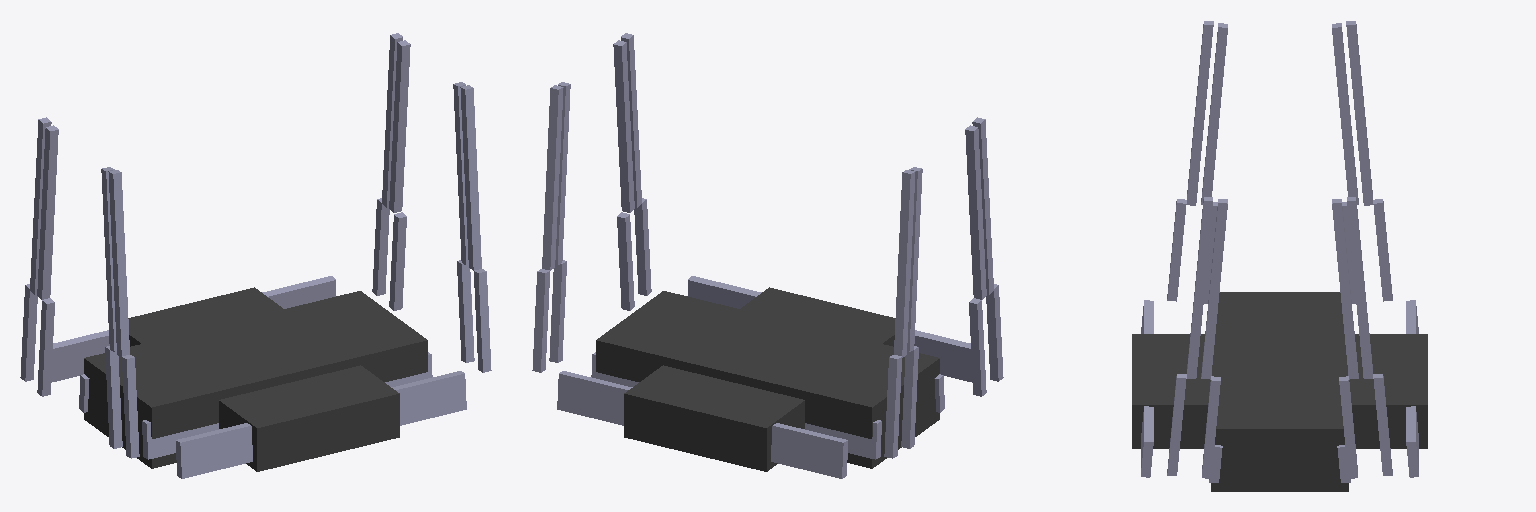
--- Facts derived from the render (not from the file) ---
The picture shows the robot from 3 angles, left to right: view 1: azimuth 30°, elevation 25°; view 2: azimuth 150°, elevation 25°; view 3: azimuth 270°, elevation 25°; orthographic projection.
Model quadruped with 27 links and 26 joints (8 revolute, 8 continuous, 10 fixed), rooted at base_chassis_link, posed every joint at zero.
Links seen in each view (by area): view 1: base_chassis_link, chassis_right, chassis_left, lower_leg_back_rightR_link, lower_leg_front_rightR_link, lower_leg_back_leftL_link, lower_leg_front_leftL_link, lower_leg_back_leftR_link, upper_leg_back_rightR_link, upper_leg_front_rightR_link, lower_leg_front_leftR_link, lower_leg_back_rightL_link (+7 smaller); view 2: base_chassis_link, chassis_left, chassis_right, lower_leg_back_leftR_link, lower_leg_front_leftR_link, lower_leg_back_rightL_link, lower_leg_front_rightL_link, lower_leg_back_rightR_link, upper_leg_back_leftR_link, upper_leg_front_leftR_link, lower_leg_front_rightR_link, lower_leg_back_leftL_link (+7 smaller); view 3: base_chassis_link, lower_leg_back_rightR_link, lower_leg_back_leftR_link, lower_leg_front_rightR_link, lower_leg_front_leftR_link, lower_leg_front_rightL_link, lower_leg_front_leftL_link, lower_leg_back_rightL_link, lower_leg_back_leftL_link, chassis_right, chassis_left, upper_leg_front_rightR_link (+5 smaller).
Boxes of the visible links, x1=… form: base_chassis_link: x1=84, y1=287, x2=427, y2=471; chassis_right: x1=142, y1=352, x2=466, y2=478; chassis_left: x1=51, y1=276, x2=335, y2=412; lower_leg_back_rightR_link: x1=108, y1=170, x2=129, y2=357; lower_leg_front_rightR_link: x1=460, y1=85, x2=481, y2=270; lower_leg_back_leftL_link: x1=37, y1=125, x2=58, y2=299; lower_leg_front_leftL_link: x1=389, y1=40, x2=410, y2=212; lower_leg_back_leftR_link: x1=30, y1=117, x2=51, y2=294; upper_leg_back_rightR_link: x1=122, y1=355, x2=139, y2=458; upper_leg_front_rightR_link: x1=474, y1=269, x2=491, y2=372; lower_leg_front_leftR_link: x1=382, y1=33, x2=402, y2=207; lower_leg_back_rightL_link: x1=101, y1=167, x2=116, y2=351; base_chassis_link: x1=596, y1=287, x2=939, y2=471; chassis_left: x1=557, y1=352, x2=881, y2=478; chassis_right: x1=688, y1=276, x2=972, y2=412; lower_leg_back_leftR_link: x1=894, y1=170, x2=915, y2=357; lower_leg_front_leftR_link: x1=542, y1=85, x2=563, y2=270; lower_leg_back_rightL_link: x1=965, y1=125, x2=986, y2=299; lower_leg_front_rightL_link: x1=613, y1=40, x2=634, y2=212; lower_leg_back_rightR_link: x1=972, y1=117, x2=993, y2=294; upper_leg_back_leftR_link: x1=884, y1=355, x2=901, y2=458; upper_leg_front_leftR_link: x1=532, y1=269, x2=549, y2=372; lower_leg_front_rightR_link: x1=621, y1=33, x2=641, y2=207; lower_leg_back_leftL_link: x1=907, y1=167, x2=922, y2=351; base_chassis_link: x1=1132, y1=292, x2=1427, y2=491; lower_leg_back_rightR_link: x1=1186, y1=21, x2=1213, y2=205; lower_leg_back_leftR_link: x1=1346, y1=21, x2=1373, y2=205; lower_leg_front_rightR_link: x1=1187, y1=197, x2=1212, y2=378; lower_leg_front_leftR_link: x1=1347, y1=197, x2=1372, y2=378; lower_leg_front_rightL_link: x1=1201, y1=199, x2=1227, y2=379; lower_leg_front_leftL_link: x1=1332, y1=199, x2=1358, y2=379; lower_leg_back_rightL_link: x1=1201, y1=23, x2=1227, y2=204; lower_leg_back_leftL_link: x1=1332, y1=23, x2=1358, y2=204; chassis_right: x1=1141, y1=300, x2=1222, y2=482; chassis_left: x1=1337, y1=300, x2=1418, y2=482; upper_leg_front_rightR_link: x1=1167, y1=374, x2=1186, y2=475.
Bounding box of the posed robot: 0.43 × 0.3 × 0.3508 m (x, y, z).
Meshes: 1 distinct files referenced, 0 mesh visuals loaded (none loaded); not drawn: 8 (reference not matched to a file when rendering).

URDF robot description (quadruped):
<?xml version="0.0" ?>
<!-- ======================================================================= -->
<!--LICENSE:                                                                 -->
<!--Copyright (c) 2017, Erwin Coumans                                        -->
<!--Google Inc.                                                              -->
<!--All rights reserved.                                                     -->
<!--                                                                         -->
<!--Redistribution and use in source and binary forms, with or without       -->
<!--modification, are permitted provided that the following conditions are   -->
<!--met:                                                                     -->
<!--                                                                         -->
<!--1. Redistributions or derived work must retain this copyright notice,    -->
<!--   this list of conditions and the following disclaimer.                 -->
<!--                                                                         -->
<!--2. Redistributions in binary form must reproduce the above copyright     -->
<!--   notice, this list of conditions and the following disclaimer in the   -->
<!--   documentation and/or other materials provided with the distribution.  -->
<!--                                                                         -->
<!--THIS SOFTWARE IS PROVIDED BY THE COPYRIGHT HOLDERS AND CONTRIBUTORS "AS  -->
<!--IS" AND ANY EXPRESS OR IMPLIED WARRANTIES, INCLUDING, BUT NOT LIMITED TO,-->
<!--THE IMPLIED WARRANTIES OF MERCHANTABILITY AND FITNESS FOR A PARTICULAR   -->
<!--PURPOSE ARE DISCLAIMED. IN NO EVENT SHALL THE COPYRIGHT HOLDER OR        -->
<!--CONTRIBUTORS BE LIABLE FOR ANY DIRECT, INDIRECT, INCIDENTAL, SPECIAL,    -->
<!--EXEMPLARY, OR CONSEQUENTIAL DAMAGES (INCLUDING, BUT NOT LIMITED TO,      -->
<!--PROCUREMENT OF SUBSTITUTE GOODS OR SERVICES; LOSS OF USE, DATA, OR       -->
<!--PROFITS; OR BUSINESS INTERRUPTION) HOWEVER CAUSED AND ON ANY THEORY OF   -->
<!--LIABILITY, WHETHER IN CONTRACT, STRICT LIABILITY, OR TORT (INCLUDING     -->
<!--NEGLIGENCE OR OTHERWISE) ARISING IN ANY WAY OUT OF THE USE OF THIS       -->
<!--SOFTWARE, EVEN IF ADVISED OF THE POSSIBILITY OF SUCH DAMAGE.             -->

<robot name="quadruped">
  <link name="base_chassis_link">
    <visual>
      <geometry>
        <box size=".33 0.14 .07"/>
      </geometry>
      <material name="black">
        <color rgba="0.3 0.3 0.3 1"/>
      </material>
    </visual>
    <visual>
      <origin rpy="0 0 0" xyz="0 0.10 0"/>
      <geometry>
        <box size=".17 0.10 .05"/>
      </geometry>
      <material name="black">
        <color rgba="0.3 0.3 0.3 1"/>
      </material>
    </visual>
    <visual>
      <origin rpy="0 0 0" xyz="0 -0.10 0"/>
      <geometry>
        <box size=".17 0.10 .05"/>
      </geometry>
      <material name="black">
        <color rgba="0.3 0.3 0.3 1"/>
      </material>
    </visual>
    <collision>
      <geometry>
       <box size=".34 0.14 .07"/>
      </geometry>
    </collision>
    <collision>
      <origin rpy="0 0 0" xyz="0 0.10 0"/>
      <geometry>
       <box size=".17 0.10 .05"/>
      </geometry>
    </collision>
    <collision>
      <origin rpy="0 0 0" xyz="0 -0.10 0"/>
      <geometry>
       <box size=".17 0.10 .05"/>
      </geometry>
    </collision>
    <inertial>
      <mass value="3"/>
      <inertia ixx="1.0" ixy="0.0" ixz="0.0" iyy="1.0" iyz="0.0" izz="1.0"/>
    </inertial>
  </link>

  <link name="chassis_right">
    <visual>
      <origin rpy="0 0 0" xyz="0 0.035 0"/>
      <geometry>
       <box size=".34 0.01 .04"/>
      </geometry>
      <material name="grey">
        <color rgba="0.65 0.65 0.75 1"/>
      </material>    </visual>
    <visual>
      <origin rpy="0 0 0" xyz="0 -0.035 0"/>
      <geometry>
       <box size=".34 0.01 .04"/>
      </geometry>
      <material name="grey">
        <color rgba="0.65 0.65 0.75 1"/>
      </material>    </visual>
    <collision>
      <origin rpy="0 0 0" xyz="0 0.035 0"/>
      <geometry>
       <box size=".34 0.01 .04"/>
      </geometry>
    </collision>
    <collision>
      <origin rpy="0 0 0" xyz="0 -0.035 0"/>
      <geometry>
       <box size=".34 0.01 .04"/>
      </geometry>
    </collision>
    <inertial>
      <mass value=".1"/>
      <inertia ixx="1.0" ixy="0.0" ixz="0.0" iyy="1.0" iyz="0.0" izz="1.0"/>
    </inertial>
  </link>
  <joint name="chassis_right_center" type="fixed">
    <axis xyz="0 0 1"/>
    <parent link="base_chassis_link"/>
    <child link="chassis_right"/>
    <origin rpy="-0.0872665 0 0" xyz="0.0 -0.10 0.0"/>
    <limit effort="100" velocity="100"/>
    <joint_properties damping="0.0" friction="0.0"/>
  </joint>

  <link name="chassis_left">
    <visual>
      <origin rpy="0 0 0" xyz="0 0.035 0"/>
      <geometry>
       <box size=".34 0.01 .04"/>
      </geometry>
      <material name="grey">
        <color rgba="0.65 0.65 0.75 1"/>
      </material>    </visual>
    <visual>
      <origin rpy="0 0 0" xyz="0 -0.035 0"/>
      <geometry>
       <box size=".34 0.01 .04"/>
      </geometry>
      <material name="grey">
        <color rgba="0.65 0.65 0.75 1"/>
      </material>    </visual>
    <collision>
      <origin rpy="0 0 0" xyz="0 0.035 0"/>
      <geometry>
       <box size=".34 0.01 .04"/>
      </geometry>
    </collision>
    <collision>
      <origin rpy="0 0 0" xyz="0 -0.035 0"/>
      <geometry>
       <box size=".34 0.01 .04"/>
      </geometry>
    </collision>
    <inertial>
      <mass value=".1"/>
      <inertia ixx="1.0" ixy="0.0" ixz="0.0" iyy="1.0" iyz="0.0" izz="1.0"/>
    </inertial>
  </link>
  <joint name="chassis_left_center" type="fixed">
    <axis xyz="0 0 1"/>
    <parent link="base_chassis_link"/>
    <child link="chassis_left"/>
    <origin rpy="0.0872665 0 0" xyz="0.0 0.10 0.0"/>
    <limit effort="100" velocity="100"/>
    <joint_properties damping="0.0" friction="0.0"/>
  </joint>
  
  <link name="motor_front_rightR_link">
    <visual>
      <geometry>
        <mesh filename="tmotor3.obj" scale="1 1 1"/>
      </geometry>
      <material name="white">
        <color rgba="1 1 1 1"/>
      </material>
    </visual>
    <collision>
      <geometry>
        <cylinder length="0.026" radius="0.0434"/>
      </geometry>
    </collision>
    <inertial>
      <mass value="0.25"/>
      <inertia ixx="1.0" ixy="0.0" ixz="0.0" iyy="1.0" iyz="0.0" izz="1.0"/>
    </inertial>
  </link>
  <joint name="motor_front_rightR_joint" type="continuous">
    <axis xyz="0 0 1"/>
    <parent link="chassis_right"/>
    <child link="motor_front_rightR_link"/>
    <origin rpy="1.57075 0 0" xyz="0.21 -0.025 0"/>
    <limit effort="100" velocity="100"/>
    <joint_properties damping="0.0" friction="0.0"/>
  </joint>

  <link name="motor_front_rightL_link">
    <visual>
      <geometry>
        <mesh filename="tmotor3.obj" scale="1 1 1"/>
      </geometry>
      <material name="white">
        <color rgba="1 1 1 1"/>
      </material>
    </visual>
    <collision>
      <geometry>
        <cylinder length="0.026" radius="0.0434"/>
      </geometry>
    </collision>
    <inertial>
      <mass value="0.25"/>
      <inertia ixx="1.0" ixy="0.0" ixz="0.0" iyy="1.0" iyz="0.0" izz="1.0"/>
    </inertial>
  </link>
  <joint name="motor_front_rightL_joint" type="continuous">
    <axis xyz="0 0 1"/>
    <parent link="chassis_right"/>
    <child link="motor_front_rightL_link"/>
    <origin rpy="1.57075 0 3.141592" xyz="0.21 0.04 0"/>
    <limit effort="100" velocity="100"/>
    <joint_properties damping="0.0" friction="0.0"/>
  </joint>

  <link name="motor_front_leftR_link">
    <visual>
      <geometry>
        <mesh filename="tmotor3.obj" scale="1 1 1"/>
      </geometry>
      <material name="white">
        <color rgba="1 1 1 1"/>
      </material>
    </visual>
    <collision>
      <geometry>
        <cylinder length="0.026" radius="0.0434"/>
      </geometry>
    </collision>
    <inertial>
      <mass value="0.25"/>
      <inertia ixx="1.0" ixy="0.0" ixz="0.0" iyy="1.0" iyz="0.0" izz="1.0"/>
    </inertial>
  </link>
  <joint name="motor_front_leftR_joint" type="continuous">
    <axis xyz="0 0 1"/>
    <parent link="chassis_left"/>
    <child link="motor_front_leftR_link"/>
    <origin rpy="1.57075 0 3.141592" xyz="0.21 0.025 0"/>
    <limit effort="100" velocity="100"/>
    <joint_properties damping="0.0" friction="0.0"/>
  </joint>

  <link name="motor_front_leftL_link">
    <visual>
      <geometry>
        <mesh filename="tmotor3.obj" scale="1 1 1"/>
      </geometry>
      <material name="white">
        <color rgba="1 1 1 1"/>
      </material>
    </visual>
    <inertial>
      <mass value="0.25"/>
      <inertia ixx="1.0" ixy="0.0" ixz="0.0" iyy="1.0" iyz="0.0" izz="1.0"/>
    </inertial>
  </link>
  <joint name="motor_front_leftL_joint" type="continuous">
    <axis xyz="0 0 1"/>
    <parent link="chassis_left"/>
    <child link="motor_front_leftL_link"/>
    <origin rpy="1.57075 0 0" xyz="0.21 -0.04 0"/>
    <limit effort="100" velocity="100"/>
    <joint_properties damping="0.0" friction="0.0"/>
  </joint>

  <link name="motor_back_rightR_link">
    <visual>
      <geometry>
        <mesh filename="tmotor3.obj" scale="1 1 1"/>
      </geometry>
      <material name="white">
        <color rgba="1 1 1 1"/>
      </material>
    </visual>
    <collision>
      <geometry>
        <cylinder length="0.026" radius="0.0434"/>
      </geometry>
    </collision>
    <inertial>
      <mass value="0.25"/>
      <inertia ixx="1.0" ixy="0.0" ixz="0.0" iyy="1.0" iyz="0.0" izz="1.0"/>
    </inertial>
  </link>
  <joint name="motor_back_rightR_joint" type="continuous">
    <axis xyz="0 0 1"/>
    <parent link="chassis_right"/>
    <child link="motor_back_rightR_link"/>
    <origin rpy="1.57075 0 0" xyz="-0.21 -0.025 0"/>
    <limit effort="100" velocity="100"/>
    <joint_properties damping="0.0" friction="0.0"/>
  </joint>

  <link name="motor_back_rightL_link">
    <visual>
      <geometry>
        <mesh filename="tmotor3.obj" scale="1 1 1"/>
      </geometry>
      <material name="white">
        <color rgba="1 1 1 1"/>
      </material>
    </visual>
    <collision>
      <geometry>
        <cylinder length="0.026" radius="0.0434"/>
      </geometry>
    </collision>
    <inertial>
      <mass value="0.25"/>
      <inertia ixx="1.0" ixy="0.0" ixz="0.0" iyy="1.0" iyz="0.0" izz="1.0"/>
    </inertial>
  </link>
  <joint name="motor_back_rightL_joint" type="continuous">
    <axis xyz="0 0 1"/>
    <parent link="chassis_right"/>
    <child link="motor_back_rightL_link"/>
    <origin rpy="1.57075 0 3.141592" xyz="-0.21 0.04 0"/>
    <limit effort="100" velocity="100"/>
    <joint_properties damping="0.0" friction="0.0"/>
  </joint>

  <link name="motor_back_leftR_link">
    <visual>
      <geometry>
        <mesh filename="tmotor3.obj" scale="1 1 1"/>
      </geometry>
      <material name="white">
        <color rgba="1 1 1 1"/>
      </material>
    </visual>
    <collision>
      <geometry>
        <cylinder length="0.026" radius="0.0434"/>
      </geometry>
    </collision>
    <inertial>
      <mass value="0.25"/>
      <inertia ixx="1.0" ixy="0.0" ixz="0.0" iyy="1.0" iyz="0.0" izz="1.0"/>
    </inertial>
  </link>
  <joint name="motor_back_leftR_joint" type="continuous">
    <axis xyz="0 0 1"/>
    <parent link="chassis_left"/>
    <child link="motor_back_leftR_link"/>
    <origin rpy="1.57075 0 3.141592" xyz="-0.21 0.025 0"/>
    <limit effort="100" velocity="100"/>
    <joint_properties damping="0.0" friction="0.0"/>
  </joint>

  <link name="motor_back_leftL_link">
    <visual>
      <geometry>
        <mesh filename="tmotor3.obj" scale="1 1 1"/>
      </geometry>
      <material name="white">
        <color rgba="1 1 1 1"/>
      </material>
    </visual>
    <collision>
      <geometry>
        <cylinder length="0.026" radius="0.0434"/>
      </geometry>
    </collision>
    <inertial>
      <mass value="0.25"/>
      <inertia ixx="1.0" ixy="0.0" ixz="0.0" iyy="1.0" iyz="0.0" izz="1.0"/>
    </inertial>
  </link>
  <joint name="motor_back_leftL_joint" type="continuous">
    <axis xyz="0 0 1"/>
    <parent link="chassis_left"/>
    <child link="motor_back_leftL_link"/>
    <origin rpy="1.57075 0 0" xyz="-0.21 -0.04 0"/>
    <limit effort="100" velocity="100"/>
    <joint_properties damping="0.0" friction="0.0"/>
  </joint>

  <link name="upper_leg_front_rightR_link">
    <visual>
      <geometry>
        <box size=".01 0.01 .11"/>
      </geometry>
      <material name="grey">
        <color rgba="0.65 0.65 0.75 1"/>
      </material>
    </visual>
    <collision>
      <geometry>
        <box size=".01 0.01 .11"/>
      </geometry>
    </collision>
    <inertial>
      <mass value="0.05"/>
      <inertia ixx="1.0" ixy="0.0" ixz="0.0" iyy="1.0" iyz="0.0" izz="1.0"/>
    </inertial>
  </link>
  <joint name="hip_front_rightR_link" type="fixed">
    <axis xyz="0 0 1"/>
    <parent link="motor_front_rightR_link"/>
    <child link="upper_leg_front_rightR_link"/>
    <origin rpy="-1.57075 0 0" xyz="0.0 0.06 -0.015"/>
    <limit effort="100" velocity="100"/>
    <joint_properties damping="0.0" friction="0.0"/>
  </joint>

  <link name="lower_leg_front_rightR_link">
    <contact>
      <stiffness value="10000"/>
      <damping value="10"/>
      <lateral_friction value="1"/>
    </contact>
    <visual>
      <origin rpy="0.0 0 0" xyz="0 0 .1"/>
      <geometry>
        <box size=".01 0.01 .2"/>
      </geometry>
      <material name="grey">
        <color rgba="0.65 0.65 0.75 1"/>
      </material>
    </visual>
    <collision>
      <origin rpy="0.0 0 0" xyz="0 0 .1"/>
      <geometry>
        <box size=".01 0.01 .2"/>
      </geometry>
    </collision>
    <inertial>
      <mass value="0.05"/>
      <inertia ixx="1.0" ixy="0.0" ixz="0.0" iyy="1.0" iyz="0.0" izz="1.0"/>
    </inertial>
  </link>
  <joint name="knee_front_rightR_link" type="revolute">
    <axis xyz="0 1 0"/>
    <parent link="upper_leg_front_rightR_link"/>
    <child link="lower_leg_front_rightR_link"/>
    <origin rpy="0 0 0" xyz="0.0 0.01 .055"/>
    <limit effort="100" velocity="100"/>
    <joint_properties damping="0.0" friction="0.0"/>
  </joint>

  <link name="upper_leg_front_rightL_link">
    <visual>
      <geometry>
        <box size=".01 0.01 .11"/>
      </geometry>
      <material name="grey">
        <color rgba="0.65 0.65 0.75 1"/>
      </material>
    </visual>
    <collision>
      <geometry>
        <box size=".01 0.01 .11"/>
      </geometry>
    </collision>
    <inertial>
      <mass value="0.05"/>
      <inertia ixx="1.0" ixy="0.0" ixz="0.0" iyy="1.0" iyz="0.0" izz="1.0"/>
    </inertial>
  </link>
  <joint name="motor_front_rightL_link" type="fixed">
    <axis xyz="0 0 1"/>
    <parent link="motor_front_rightL_link"/>
    <child link="upper_leg_front_rightL_link"/>
    <origin rpy="-1.57075 0 0" xyz="0.0 0.06 -0.015"/>
    <limit effort="100" velocity="100"/>
    <joint_properties damping="0.0" friction="0.0"/>
  </joint>

  <link name="lower_leg_front_rightL_link">
    <contact>
      <stiffness value="10000"/>
      <damping value="10"/>
      <lateral_friction value="1"/>
    </contact>
    <visual>
      <origin rpy="0.0 0 0" xyz="0 0 .1"/>
      <geometry>
        <box size=".01 0.01 .198"/>
      </geometry>
      <material name="grey">
        <color rgba="0.65 0.65 0.75 1"/>
      </material>
    </visual>
    <collision>
      <origin rpy="0.0 0 0" xyz="0 0 .1"/>
      <geometry>
        <box size=".01 0.01 .198"/>
      </geometry>
    </collision>
    <inertial>
      <mass value="0.05"/>
      <inertia ixx="1.0" ixy="0.0" ixz="0.0" iyy="1.0" iyz="0.0" izz="1.0"/>
    </inertial>
  </link>
  <joint name="knee_front_rightL_link" type="revolute">
    <axis xyz="0 1 0"/>
    <parent link="upper_leg_front_rightL_link"/>
    <child link="lower_leg_front_rightL_link"/>
    <origin rpy="0 0 0" xyz="0.0 0.01 .055"/>
    <limit effort="100" velocity="100"/>
    <joint_properties damping="0.0" friction="0.0"/>
  </joint>


  <link name="upper_leg_front_leftR_link">
    <visual>
      <geometry>
        <box size=".01 0.01 .11"/>
      </geometry>
      <material name="grey">
        <color rgba="0.65 0.65 0.75 1"/>
      </material>
    </visual>
    <collision>
      <geometry>
        <box size=".01 0.01 .11"/>
      </geometry>
    </collision>
    <inertial>
      <mass value="0.05"/>
      <inertia ixx="1.0" ixy="0.0" ixz="0.0" iyy="1.0" iyz="0.0" izz="1.0"/>
    </inertial>
  </link>
  <joint name="hip_front_leftR_link" type="fixed">
    <axis xyz="0 0 1"/>
    <parent link="motor_front_leftR_link"/>
    <child link="upper_leg_front_leftR_link"/>
    <origin rpy="-1.57075 0 0" xyz="0.0 0.06 -0.015"/>
    <limit effort="100" velocity="100"/>
    <joint_properties damping="0.0" friction="0.0"/>
  </joint>


  <link name="lower_leg_front_leftR_link">
  <contact>
    <stiffness value="10000"/>
    <damping value="10"/>
    <lateral_friction value="1"/>
  </contact>

    <visual>
      <origin rpy="0.0 0.0 0" xyz="0 0 .1"/>
      <geometry>
        <box size=".01 0.01 .2"/>
      </geometry>
      <material name="grey">
        <color rgba="0.65 0.65 0.75 1"/>
      </material>
    </visual>
    <collision>
      <origin rpy="0.0 0.0 0" xyz="0 0 .1"/>
      <geometry>
        <box size=".01 0.01 .2"/>
      </geometry>
    </collision>
    <inertial>
      <mass value="0.05"/>
      <inertia ixx="1.0" ixy="0.0" ixz="0.0" iyy="1.0" iyz="0.0" izz="1.0"/>
    </inertial>
  </link>
  <joint name="knee_front_leftR_link" type="revolute">
    <axis xyz="0 1 0"/>
    <parent link="upper_leg_front_leftR_link"/>
    <child link="lower_leg_front_leftR_link"/>
    <origin rpy="0 0 0" xyz="0.0 0.01 .055"/>
    <limit effort="100" velocity="100"/>
    <joint_properties damping="0.0" friction="0.0"/>
  </joint>



   <link name="upper_leg_front_leftL_link">
    <visual>
      <geometry>
        <box size=".01 0.01 .11"/>
      </geometry>
      <material name="grey">
        <color rgba="0.65 0.65 0.75 1"/>
      </material>
    </visual>
    <collision>
      <geometry>
        <box size=".01 0.01 .11"/>
      </geometry>
    </collision>
    <inertial>
      <mass value="0.05"/>
      <inertia ixx="1.0" ixy="0.0" ixz="0.0" iyy="1.0" iyz="0.0" izz="1.0"/>
    </inertial>
  </link>
  <joint name="motor_front_leftL_link" type="fixed">
    <axis xyz="0 0 1"/>
    <parent link="motor_front_leftL_link"/>
    <child link="upper_leg_front_leftL_link"/>
    <origin rpy="-1.57075 0 0" xyz="0.0 0.06 -0.015"/>
    <limit effort="100" velocity="100"/>
    <joint_properties damping="0.0" friction="0.0"/>
  </joint>


  <link name="lower_leg_front_leftL_link">
  <contact>
    <stiffness value="10000"/>
    <damping value="10"/>
    <lateral_friction value="1"/>
  </contact>

    <visual>
      <origin rpy="0.0 0.0 0" xyz="0 0 .1"/>
      <geometry>
        <box size=".01 0.01 .198"/>
      </geometry>
      <material name="grey">
        <color rgba="0.65 0.65 0.75 1"/>
      </material>
    </visual>
    <collision>
      <origin rpy="0.0 0.0 0" xyz="0 0 .1"/>
      <geometry>
        <box size=".01 0.01 .198"/>
      </geometry>
    </collision>
    <inertial>
      <mass value="0.05"/>
      <inertia ixx="1.0" ixy="0.0" ixz="0.0" iyy="1.0" iyz="0.0" izz="1.0"/>
    </inertial>
  </link>
  <joint name="knee_front_leftL_link" type="revolute">
    <axis xyz="0 1 0"/>
    <parent link="upper_leg_front_leftL_link"/>
    <child link="lower_leg_front_leftL_link"/>
    <origin rpy="0 0 0" xyz="0.0 0.01 .055"/>
    <limit effort="100" velocity="100"/>
    <joint_properties damping="0.0" friction="0.0"/>
  </joint>
  
  <link name="upper_leg_back_rightR_link">
    <visual>
      <geometry>
        <box size=".01 0.01 .11"/>
      </geometry>
      <material name="grey">
        <color rgba="0.65 0.65 0.75 1"/>
      </material>
    </visual>
    <collision>
      <geometry>
        <box size=".01 0.01 .11"/>
      </geometry>
    </collision>
    <inertial>
      <mass value="0.05"/>
      <inertia ixx="1.0" ixy="0.0" ixz="0.0" iyy="1.0" iyz="0.0" izz="1.0"/>
    </inertial>
  </link>
  <joint name="hip_rightR_link" type="fixed">
    <axis xyz="0 0 1"/>
    <parent link="motor_back_rightR_link"/>
    <child link="upper_leg_back_rightR_link"/>
    <origin rpy="-1.57075 0 0" xyz="0.0 0.06 -0.015"/>
    <limit effort="100" velocity="100"/>
    <joint_properties damping="0.0" friction="0.0"/>
  </joint>

  <link name="lower_leg_back_rightR_link">
  <contact>
    <stiffness value="10000"/>
    <damping value="10"/>
    <lateral_friction value="1"/>
  </contact>

    <visual>
      <origin rpy="0.0 0 0" xyz="0 0 .1"/>
      <geometry>
        <box size=".01 0.01 .2032"/>
      </geometry>
      <material name="grey">
        <color rgba="0.65 0.65 0.75 1"/>
      </material>
    </visual>
    <collision>
      <origin rpy="0.0 0 0" xyz="0 0 .1"/>
      <geometry>
        <box size=".01 0.01 .2032"/>
      </geometry>
    </collision>
    <inertial>
      <mass value="0.05"/>
      <inertia ixx="1.0" ixy="0.0" ixz="0.0" iyy="1.0" iyz="0.0" izz="1.0"/>
    </inertial>
  </link>
  <joint name="knee_back_rightR_link" type="revolute">
    <axis xyz="0 1 0"/>
    <parent link="upper_leg_back_rightR_link"/>
    <child link="lower_leg_back_rightR_link"/>
    <origin rpy="0 0 0" xyz="0.0 0.01 .055"/>
    <limit effort="100" velocity="100"/>
    <joint_properties damping="0.0" friction="0.0"/>
  </joint>

    
  <link name="upper_leg_back_rightL_link">
    <visual>
      <geometry>
        <box size=".01 0.01 .11"/>
      </geometry>
      <material name="grey">
        <color rgba="0.65 0.65 0.75 1"/>
      </material>
    </visual>
    <collision>
      <geometry>
        <box size=".01 0.01 .11"/>
      </geometry>
    </collision>
    <inertial>
      <mass value="0.05"/>
      <inertia ixx="1.0" ixy="0.0" ixz="0.0" iyy="1.0" iyz="0.0" izz="1.0"/>
    </inertial>
  </link>
  <joint name="motor_back_rightL_link" type="fixed">
    <axis xyz="0 0 1"/>
    <parent link="motor_back_rightL_link"/>
    <child link="upper_leg_back_rightL_link"/>
    <origin rpy="-1.57075 0 0" xyz="0.0 0.06 -0.015"/>
    <limit effort="100" velocity="100"/>
    <joint_properties damping="0.0" friction="0.0"/>
  </joint>

  

  
  <link name="lower_leg_back_rightL_link">
  <contact>
    <stiffness value="10000"/>
    <damping value="10"/>
    <lateral_friction value="1"/>
  </contact>
  
    <visual>
      <origin rpy="0.0 0 0" xyz="0 0 .1"/>
      <geometry>
        <box size=".01 0.01 .2"/>
      </geometry>
      <material name="grey">
        <color rgba="0.65 0.65 0.75 1"/>
      </material>
    </visual>
    <collision>
      <origin rpy="0.0 0 0" xyz="0 0 .1"/>
      <geometry>
        <box size=".01 0.01 .2"/>
      </geometry>
    </collision>
    <inertial>
      <mass value="0.05"/>
      <inertia ixx="1.0" ixy="0.0" ixz="0.0" iyy="1.0" iyz="0.0" izz="1.0"/>
    </inertial>
  </link>
  <joint name="knee_back_rightL_link" type="revolute">
    <axis xyz="0 1 0"/>
    <parent link="upper_leg_back_rightL_link"/>
    <child link="lower_leg_back_rightL_link"/>
    <origin rpy="0 0 0" xyz="0.0 0.01 .055"/>
    <limit effort="100" velocity="100"/>
    <joint_properties damping="0.0" friction="0.0"/>
  </joint>



  <link name="upper_leg_back_leftR_link">
    <visual>
      <geometry>
        <box size=".01 0.01 .11"/>
      </geometry>
      <material name="grey">
        <color rgba="0.65 0.65 0.75 1"/>
      </material>
    </visual>
    <collision>
      <geometry>
        <box size=".01 0.01 .11"/>
      </geometry>
    </collision>
    <inertial>
      <mass value="0.05"/>
      <inertia ixx="1.0" ixy="0.0" ixz="0.0" iyy="1.0" iyz="0.0" izz="1.0"/>
    </inertial>
  </link>
  <joint name="hip_leftR_link" type="fixed">
    <axis xyz="0 0 1"/>
    <parent link="motor_back_leftR_link"/>
    <child link="upper_leg_back_leftR_link"/>
    <origin rpy="-1.57075 0 0" xyz="0.0 0.06 -0.015"/>
    <limit effort="100" velocity="100"/>
    <joint_properties damping="0.0" friction="0.0"/>
  </joint>

<link name="lower_leg_back_leftR_link">
  <contact>
    <stiffness value="10000"/>
    <damping value="10"/>
    <lateral_friction value="1"/>
  </contact>

    <visual>
      <origin rpy="0.0 0 0" xyz="0 0 .1"/>
      <geometry>
        <box size=".01 0.01 .2032"/>
      </geometry>
      <material name="grey">
        <color rgba="0.65 0.65 0.75 1"/>
      </material>
    </visual>
    <collision>
      <origin rpy="0.0 0 0" xyz="0 0 .1"/>
      <geometry>
        <box size=".01 0.01 .2032"/>
      </geometry>
    </collision>
    <inertial>
      <mass value="0.05"/>
      <inertia ixx="1.0" ixy="0.0" ixz="0.0" iyy="1.0" iyz="0.0" izz="1.0"/>
    </inertial>
  </link>
  <joint name="knee_back_leftR_link" type="revolute">
    <axis xyz="0 1 0"/>
    <parent link="upper_leg_back_leftR_link"/>
    <child link="lower_leg_back_leftR_link"/>
    <origin rpy="0 0 0" xyz="0.0 0.01 .055"/>
    <limit effort="100" velocity="100"/>
    <joint_properties damping="0.0" friction="0.0"/>
  </joint>
  
   <link name="upper_leg_back_leftL_link">
    <visual>
      <geometry>
        <box size=".01 0.01 .11"/>
      </geometry>
      <material name="grey">
        <color rgba="0.65 0.65 0.75 1"/>
      </material>
    </visual>
    <collision>
      <geometry>
        <box size=".01 0.01 .11"/>
      </geometry>
    </collision>
    <inertial>
      <mass value="0.05"/>
      <inertia ixx="1.0" ixy="0.0" ixz="0.0" iyy="1.0" iyz="0.0" izz="1.0"/>
    </inertial>
  </link>
  <joint name="motor_back_leftL_link" type="fixed">
    <axis xyz="0 0 1"/>
    <parent link="motor_back_leftL_link"/>
    <child link="upper_leg_back_leftL_link"/>
    <origin rpy="-1.57075 0 0" xyz="0.0 0.06 -0.015"/>
    <limit effort="100" velocity="100"/>
    <joint_properties damping="0.0" friction="0.0"/>
  </joint>

 
  <link name="lower_leg_back_leftL_link">
  <contact>
    <stiffness value="10000"/>
    <damping value="10"/>
    <lateral_friction value="1"/>
  </contact>

    <visual>
      <origin rpy="0.0 0 0" xyz="0 0 .1"/>
      <geometry>
        <box size=".01 0.01 .2"/>
      </geometry>
      <material name="grey">
        <color rgba="0.65 0.65 0.75 1"/>
      </material>
    </visual>
    <collision>
      <origin rpy="0.0 0 0" xyz="0 0 .1"/>
      <geometry>
        <box size=".01 0.01 .2"/>
      </geometry>
    </collision>
    <inertial>
      <mass value="0.05"/>
      <inertia ixx="1.0" ixy="0.0" ixz="0.0" iyy="1.0" iyz="0.0" izz="1.0"/>
    </inertial>
  </link>
  <joint name="knee_back_leftL_link" type="revolute">
    <axis xyz="0 1 0"/>
    <parent link="upper_leg_back_leftL_link"/>
    <child link="lower_leg_back_leftL_link"/>
    <origin rpy="0 0 0" xyz="0.0 0.01 .055"/>
    <limit effort="100" velocity="100"/>
    <joint_properties damping="0.0" friction="0.0"/>
  </joint>
 
</robot>
